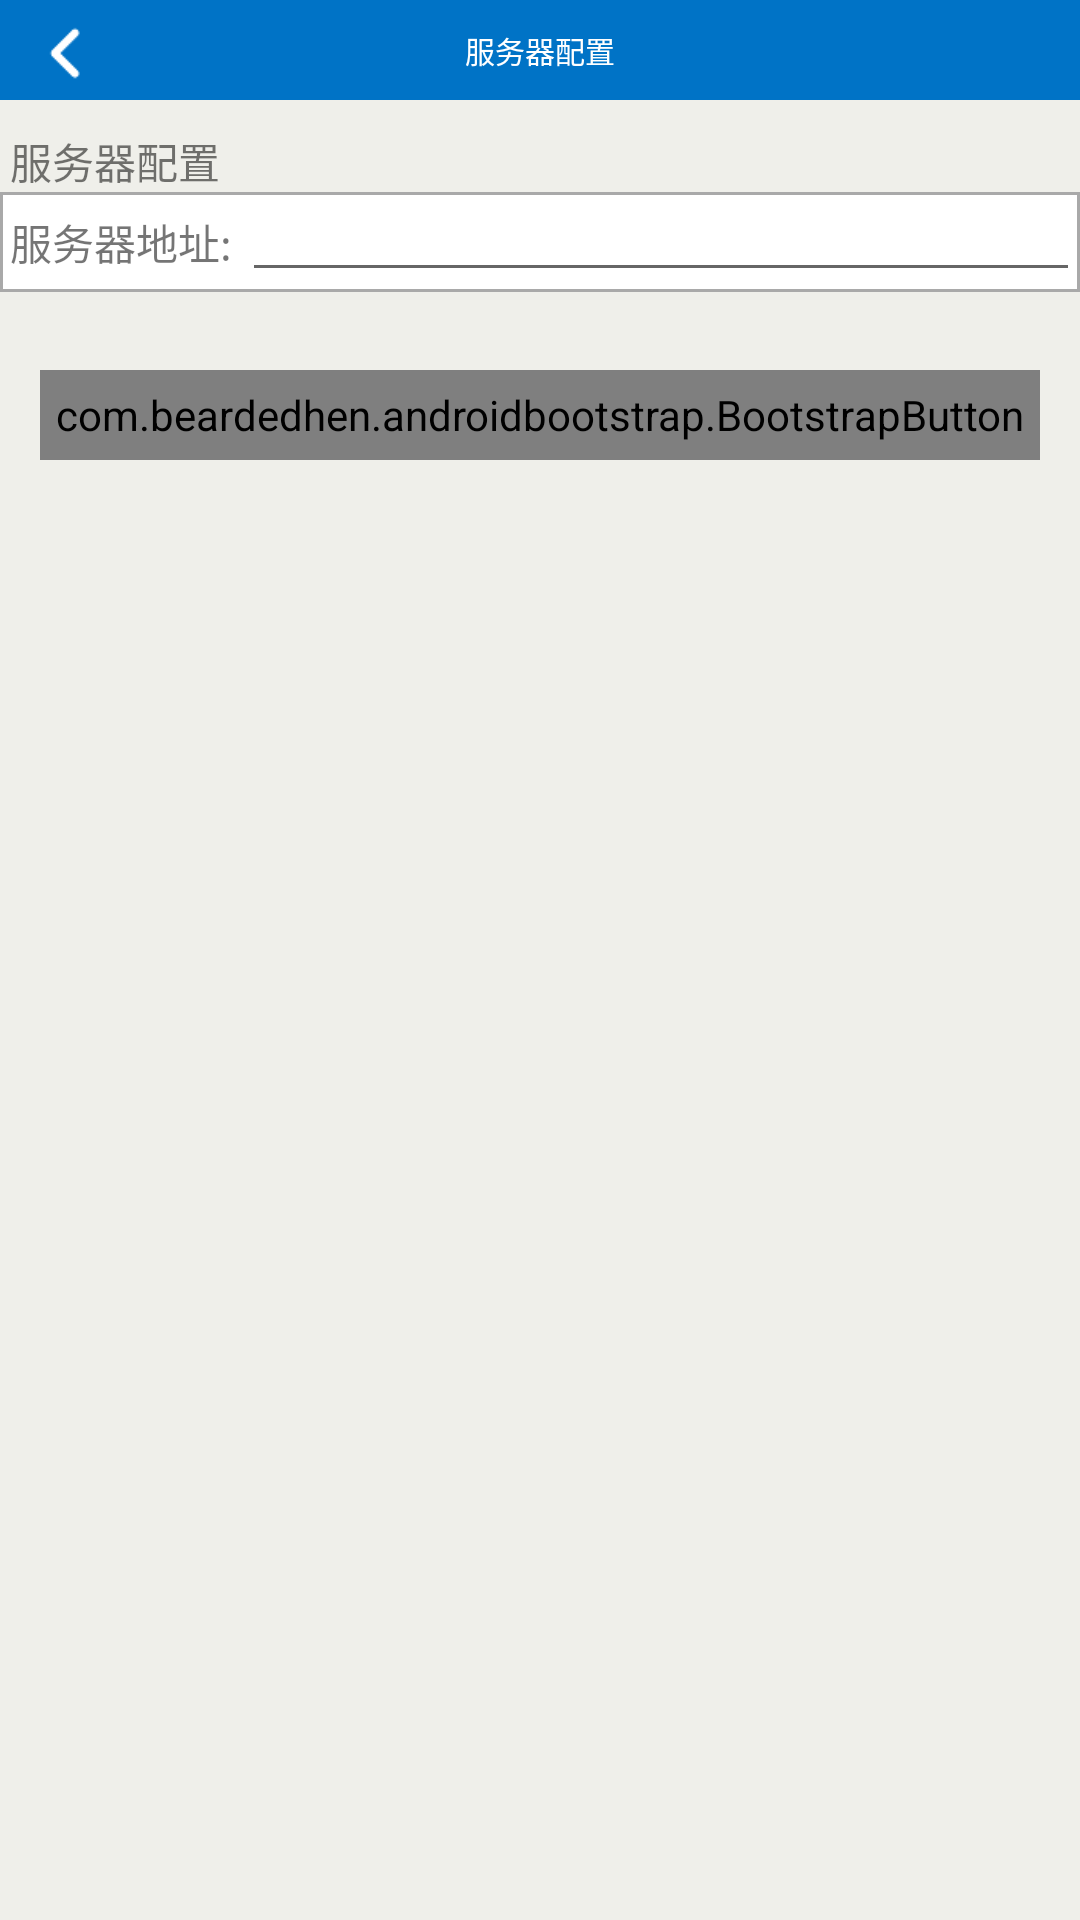

Where icons sit on this 1080*1920 app screen, as [left=x1, top=y1, right=x2, bottom=y2]:
arrow left: [left=50, top=28, right=80, bottom=79]
